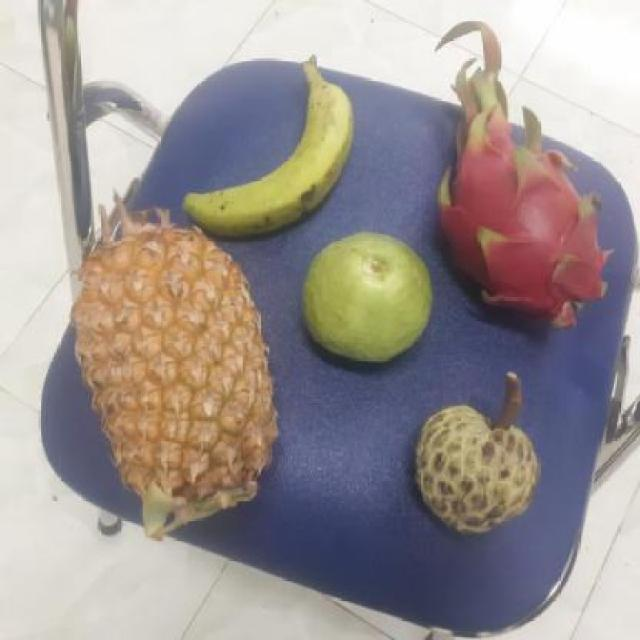banana: (178, 68, 352, 235)
dragon fruit: (429, 126, 603, 329)
guava: (294, 233, 432, 362)
pineapple: (64, 225, 279, 510)
sugar apple: (404, 402, 541, 533)
